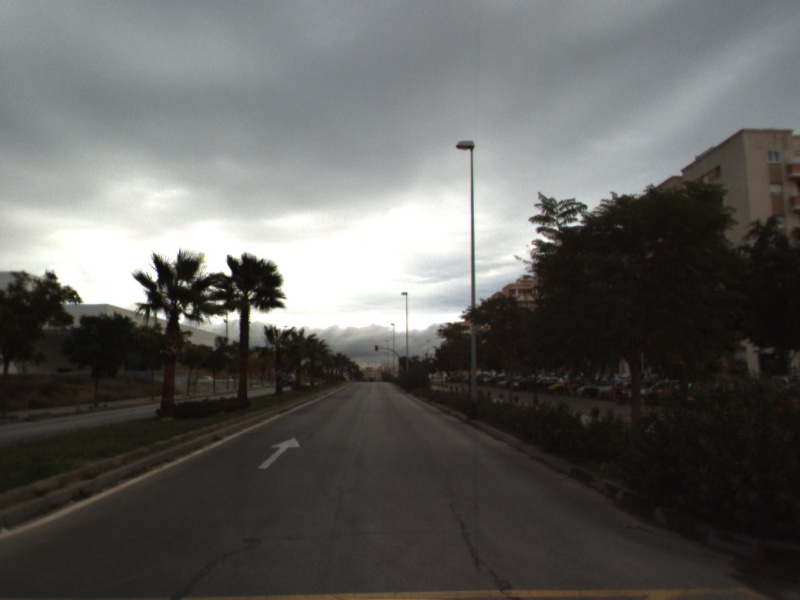STRAIGHT: (256, 435, 302, 471)
